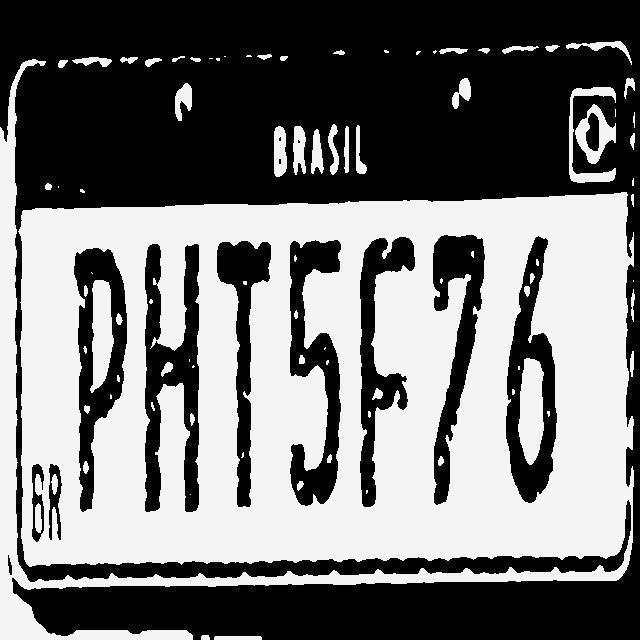5: (294, 215, 357, 515)
6: (501, 214, 568, 508)
7: (433, 206, 503, 499)
f: (366, 213, 433, 514)
h: (146, 229, 221, 536)
p: (73, 240, 135, 534)
t: (222, 222, 292, 518)
